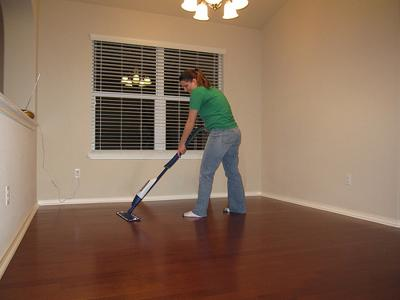person: (177, 66, 248, 220)
